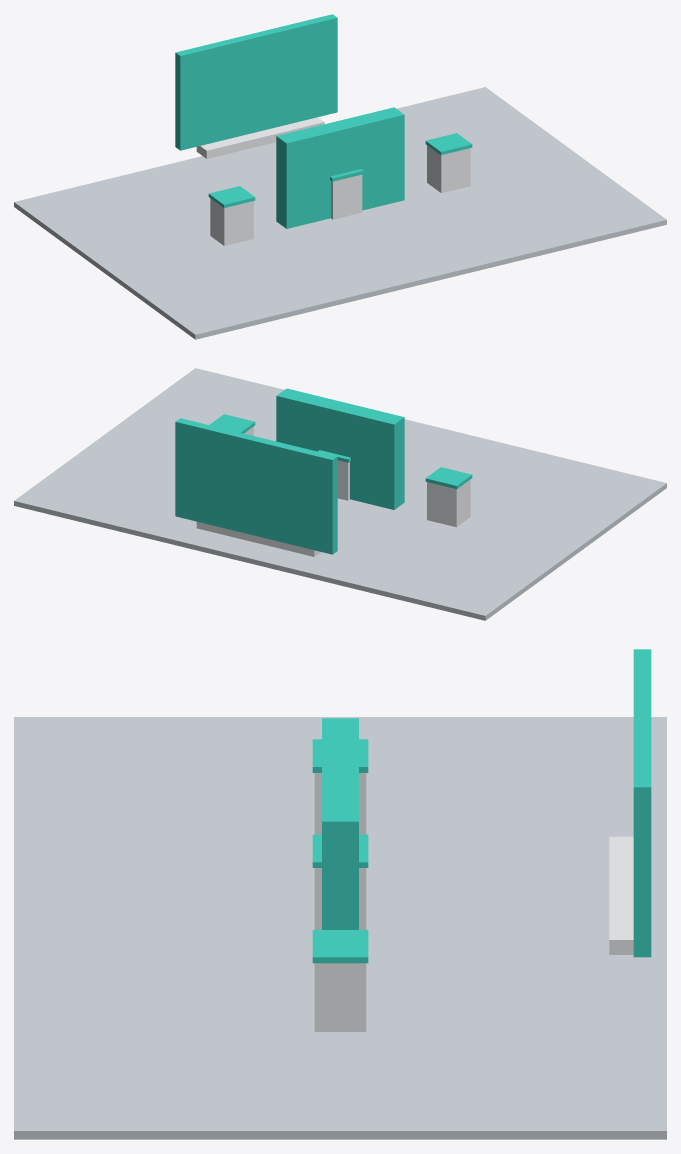
The picture shows the model from 3 angles, top to bottom: view 1: azimuth 30°, elevation 25°; view 2: azimuth 150°, elevation 25°; view 3: azimuth 270°, elevation 25°; orthographic projection. The views are drawn at different scales.
Visible parts, largest first — view 1: Exhibition Booth Concept; view 2: Exhibition Booth Concept; view 3: Exhibition Booth Concept.
Part boxes in pixels (x1,y1,x2,y2): Exhibition Booth Concept: [14, 14, 666, 339]; Exhibition Booth Concept: [14, 368, 666, 620]; Exhibition Booth Concept: [14, 649, 666, 1139].
Bounding box in the file's own units: 12 × 2.9 × 8.
